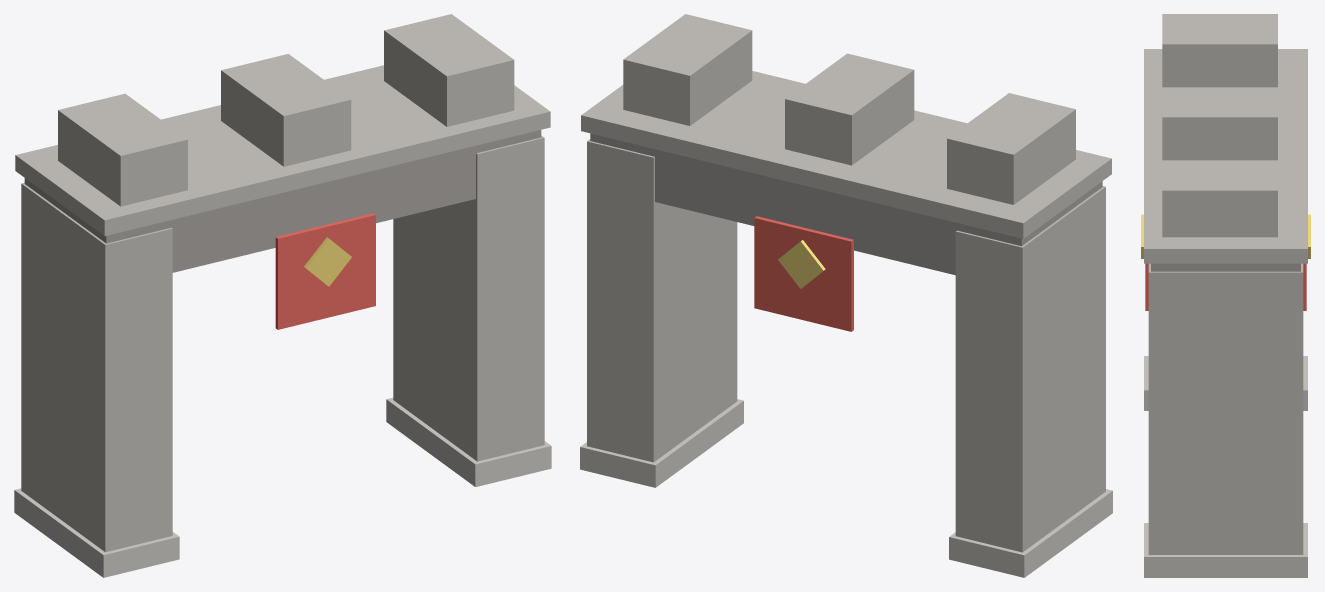
The model's file is WallGate.fbx.
3 views of the same model, side by side, from view 1: azimuth 30°, elevation 25°; view 2: azimuth 150°, elevation 25°; view 3: azimuth 270°, elevation 25° (orthographic). The views are drawn at different scales.
Visible parts, largest first — view 1: Body; view 2: Body; view 3: Body.
Part boxes in pixels (x1=…): Body: x1=14, y1=14, x2=551, y2=577; Body: x1=580, y1=14, x2=1112, y2=577; Body: x1=1141, y1=14, x2=1310, y2=577.
Size of the model in its own units: 4.12 by 3.58 by 1.47.
